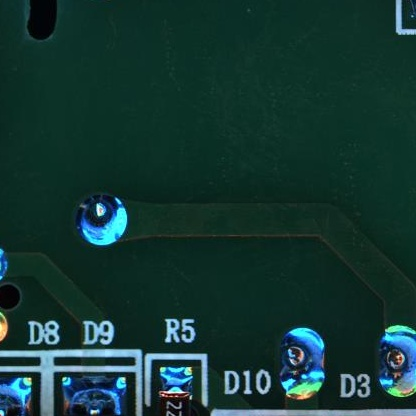spot: (277, 325, 325, 395), (73, 191, 129, 247), (375, 323, 416, 398)
